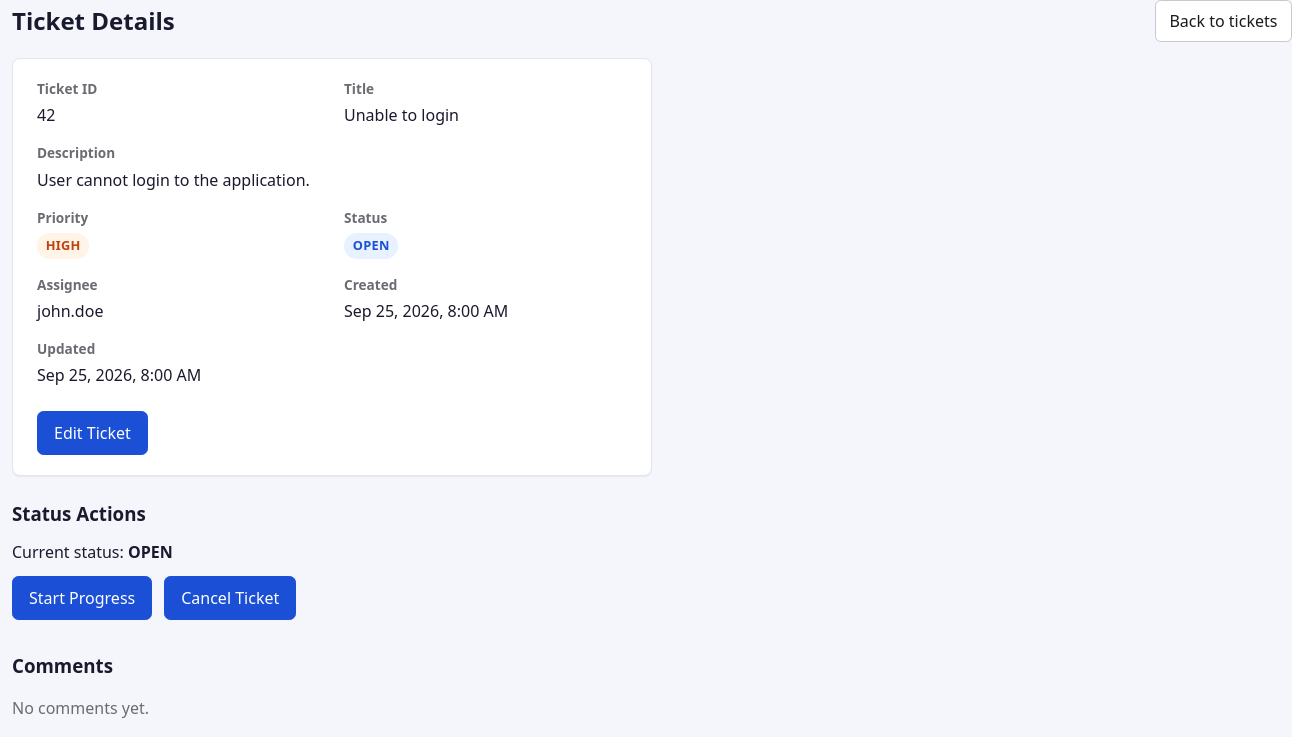
Test: TicketDetailsPage › opens edit mode when Edit Ticket is selected
The width and height of the screenshot is (1292, 737).
Expected: the text "Unable to login" is shown, [344,104,459,126]
Click the button "Edit Ticket".
click(92, 433)  # box [37,411,148,455]
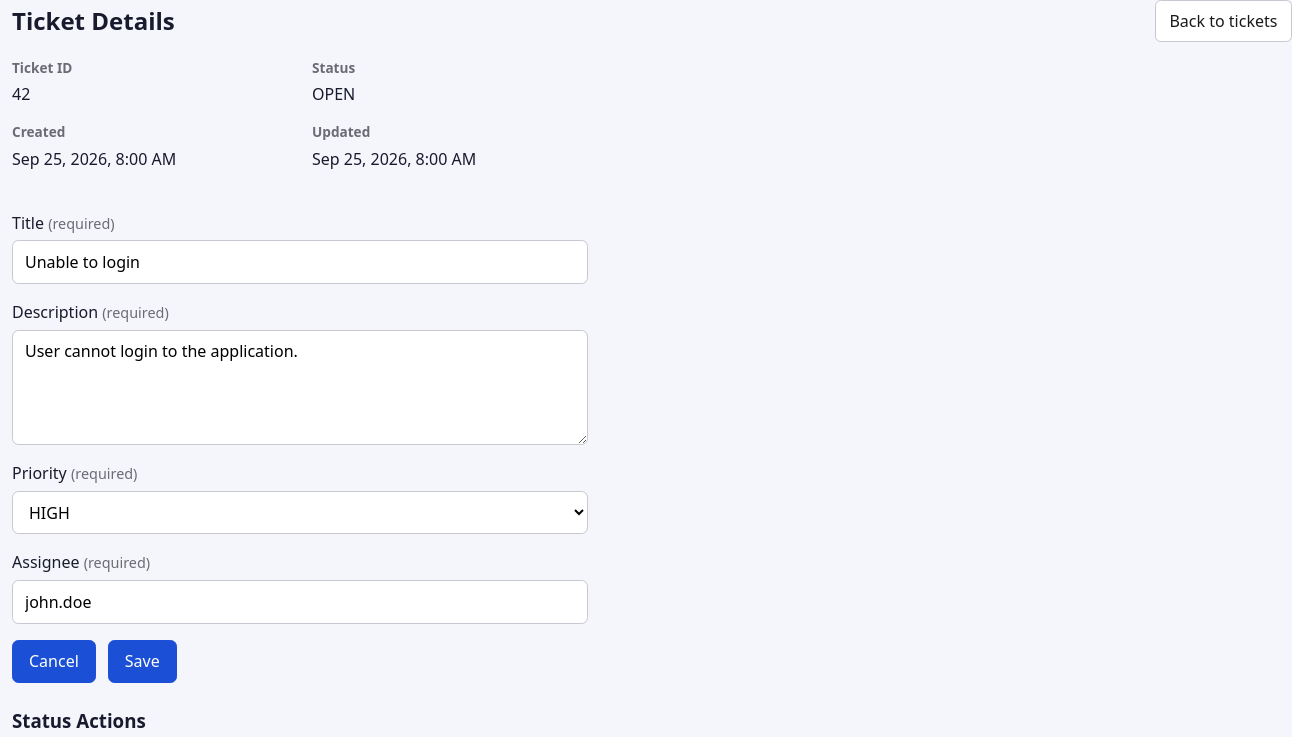
Expected: the field labelled "Title (required)" is shown, [12,240,588,284]
Expected: the text box labelled "Description (required)" is shown, [12,330,588,445]
Expected: the dropdown labelled "Priority (required)" is shown, [12,491,588,534]
